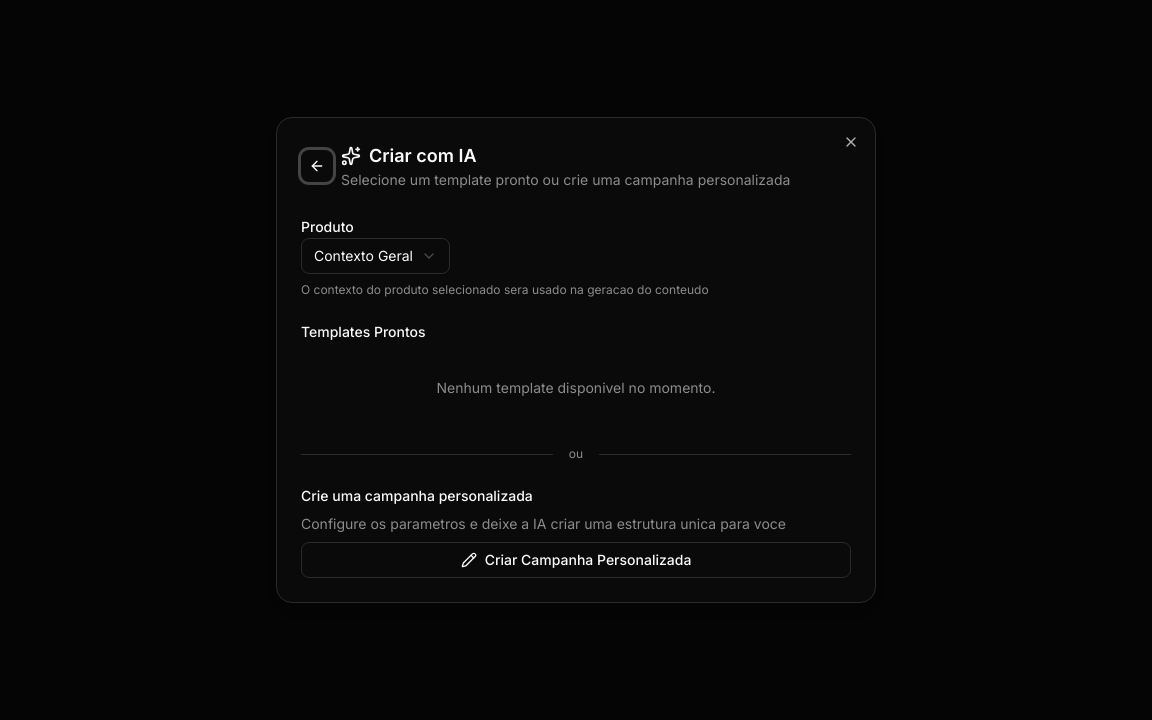
AI Full Campaign Generation Integration › Wizard Flow (AC #1, #2, #7) › shows form after navigating from template selection
The width and height of the screenshot is (1152, 720).
Step 1. Click the button with test id "template-custom-button" → (576, 560), box [301,542,851,578]
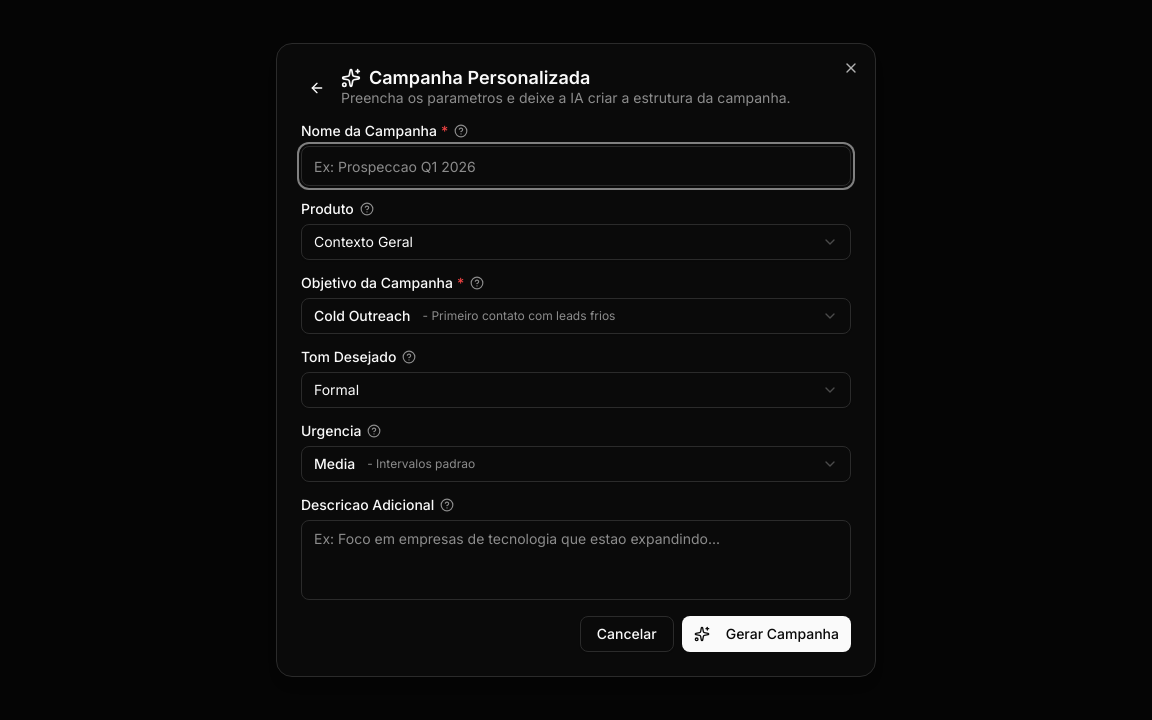
Check: the field with test id "wizard-campaign-name" is shown, box [301,146,851,186]
Check: the button with test id "generate-campaign-submit" is shown, box [682,616,851,652]
